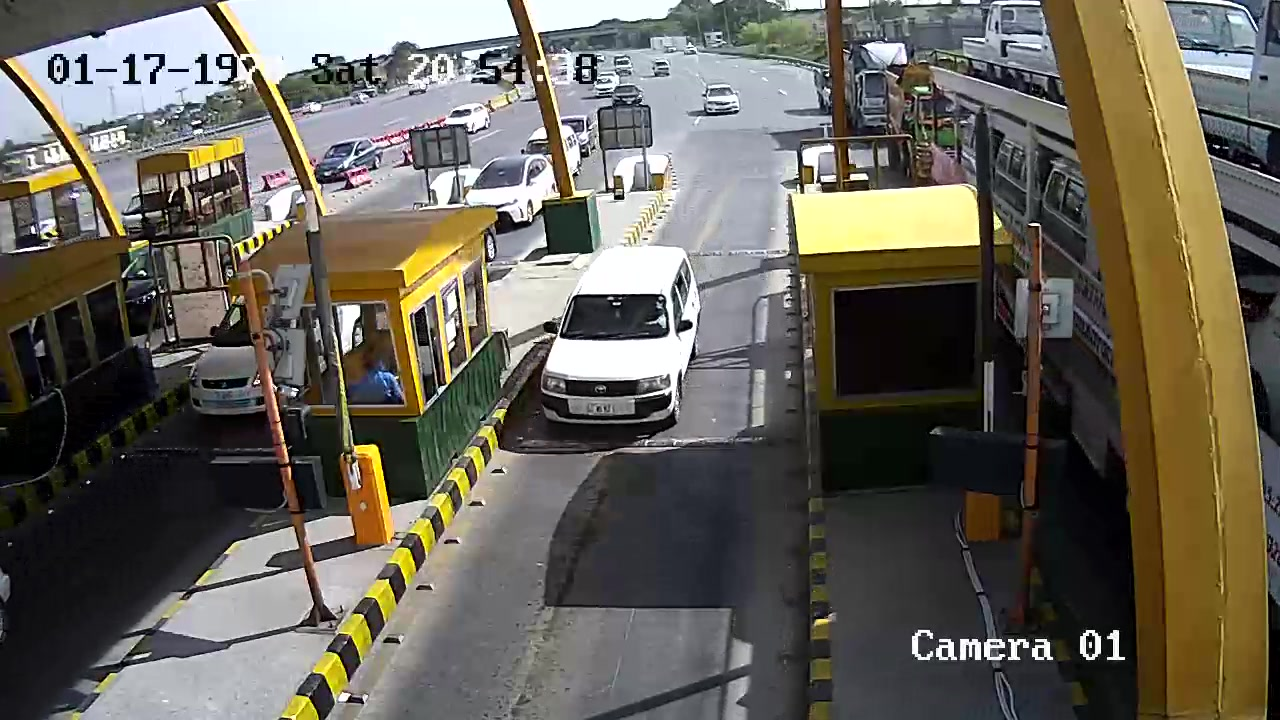F1: (540, 246, 713, 433)
